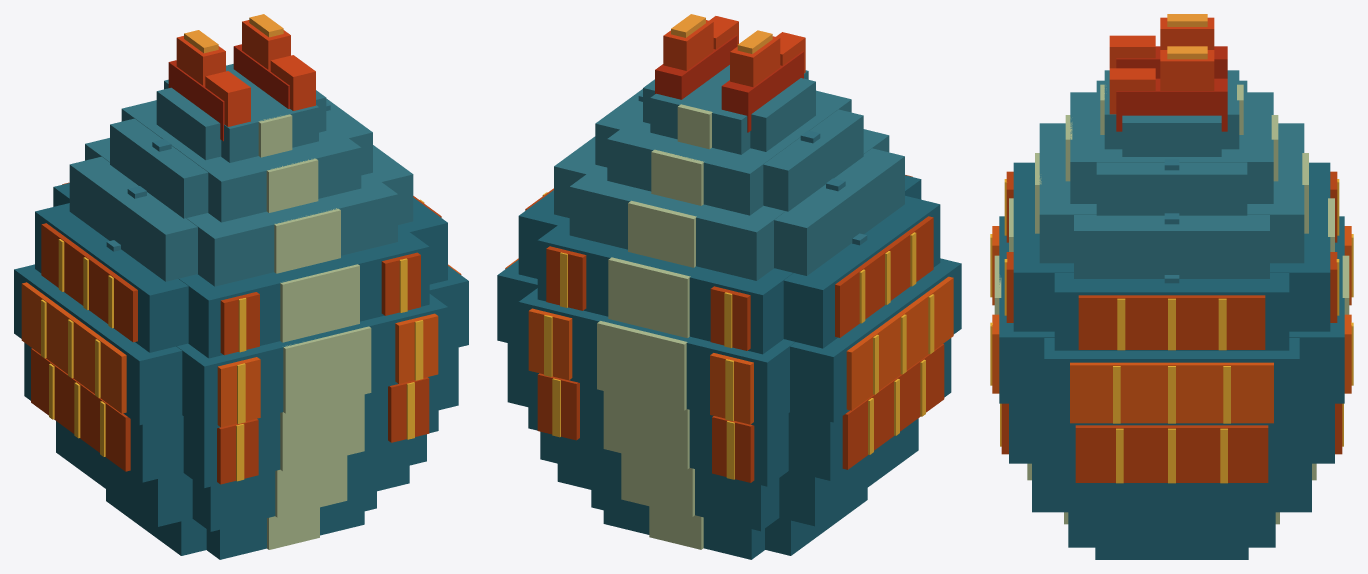
Rendered from DilophosaurusEgg.fbx.
The picture shows the model from 3 angles, left to right: view 1: azimuth 30°, elevation 25°; view 2: azimuth 150°, elevation 25°; view 3: azimuth 270°, elevation 25°; orthographic projection. The views are drawn at different scales.
Visible parts, largest first — view 1: ShellWide5, Shell5, Shell4, ShellWide4, ShellWide3, Shell3, Shell6, ShellWide6, Shell1, Belly3_1, FrillSide3_-1, ShellWide1 (+28 smaller); view 2: ShellWide5, Shell5, Shell4, ShellWide4, ShellWide3, Shell3, Shell6, ShellWide6, Shell1, Belly3_-1, FrillSide3_-1, ShellWide1 (+27 smaller); view 3: ShellWide5, FrillSide3_1, Shell4, FrillSide2_1, ShellWide1, Shell5, FrillSide4_1, Shell3, ShellWide6, Shell6, ShellWide3, ShellWide4 (+25 smaller).
Part boxes in pixels (bbox=[...]): ShellWide5: bbox=[69, 145, 413, 281]; Shell5: bbox=[85, 138, 397, 286]; Shell4: bbox=[53, 183, 429, 358]; ShellWide4: bbox=[35, 197, 447, 352]; ShellWide3: bbox=[14, 264, 468, 425]; Shell3: bbox=[176, 294, 447, 431]; Shell6: bbox=[121, 100, 361, 222]; ShellWide6: bbox=[110, 98, 372, 218]; Shell1: bbox=[192, 439, 409, 531]; Belly3_1: bbox=[283, 326, 371, 413]; FrillSide3_-1: bbox=[21, 282, 126, 413]; ShellWide1: bbox=[56, 421, 426, 526]; ShellWide5: bbox=[554, 136, 904, 275]; Shell5: bbox=[569, 129, 889, 280]; Shell4: bbox=[537, 175, 921, 354]; ShellWide4: bbox=[518, 190, 940, 348]; ShellWide3: bbox=[497, 258, 961, 422]; Shell3: bbox=[518, 288, 795, 428]; Shell6: bbox=[607, 90, 851, 215]; ShellWide6: bbox=[595, 89, 863, 211]; Shell1: bbox=[557, 436, 779, 531]; Belly3_-1: bbox=[597, 321, 687, 410]; FrillSide3_-1: bbox=[846, 276, 953, 410]; ShellWide1: bbox=[540, 418, 918, 526]; ShellWide5: bbox=[1074, 215, 1269, 278]; FrillSide3_1: bbox=[1070, 362, 1273, 423]; Shell4: bbox=[1013, 162, 1330, 331]; FrillSide2_1: bbox=[1075, 425, 1268, 482]; ShellWide1: bbox=[1068, 484, 1275, 529]; Shell5: bbox=[1039, 123, 1304, 263]; FrillSide4_1: bbox=[1078, 295, 1265, 349]; Shell3: bbox=[999, 216, 1344, 403]; ShellWide6: bbox=[1096, 80, 1247, 215]; Shell6: bbox=[1070, 92, 1273, 203]; ShellWide3: bbox=[1044, 338, 1299, 424]; ShellWide4: bbox=[1054, 273, 1289, 350].
Bounding box in the file's own units: 211 × 275 × 189.
